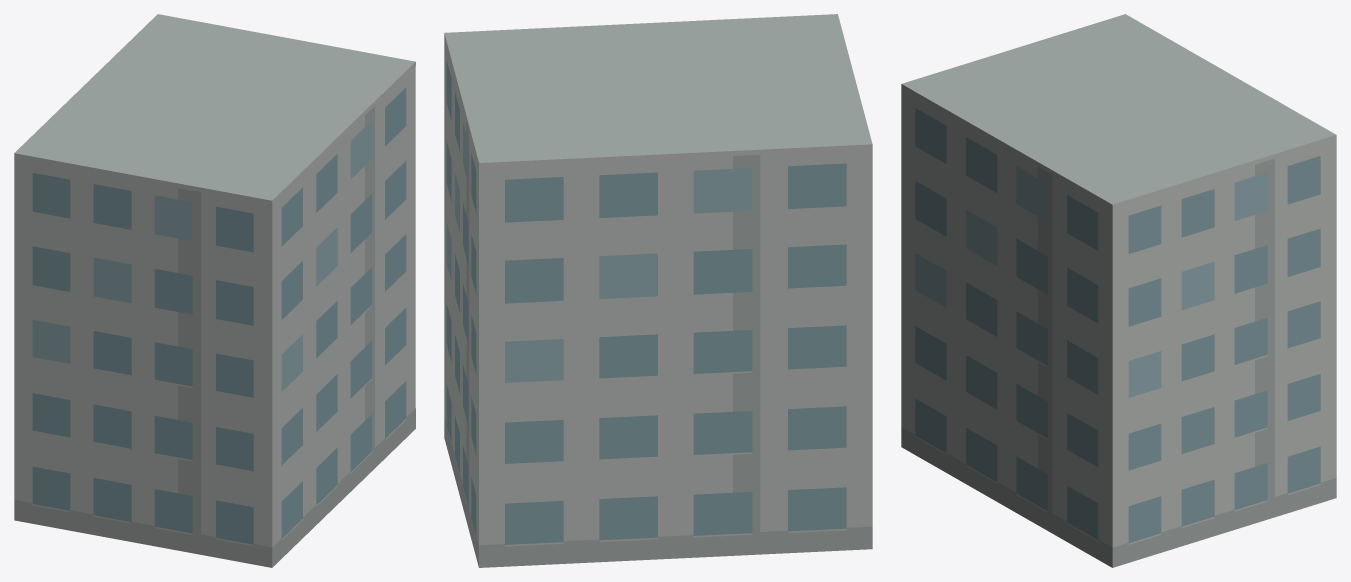
The model's file is residential-71966a1a-f8a7-49c3-b71c-f7d9e051dc4d.glb.
The picture shows the model from 3 angles, left to right: view 1: azimuth 30°, elevation 25°; view 2: azimuth 150°, elevation 25°; view 3: azimuth 270°, elevation 25°; orthographic projection. The views are drawn at different scales.
Parts seen in each view (by area): view 1: residential-71966a1a-f8a7-49c3-b71c-f7d9e051dc4d.tmp; view 2: residential-71966a1a-f8a7-49c3-b71c-f7d9e051dc4d.tmp; view 3: residential-71966a1a-f8a7-49c3-b71c-f7d9e051dc4d.tmp.
Boxes of the visible parts, x1,y1,x2,y2 form: residential-71966a1a-f8a7-49c3-b71c-f7d9e051dc4d.tmp: (14, 14, 415, 567); residential-71966a1a-f8a7-49c3-b71c-f7d9e051dc4d.tmp: (444, 14, 872, 567); residential-71966a1a-f8a7-49c3-b71c-f7d9e051dc4d.tmp: (901, 14, 1336, 567).
Size of the model in its own units: 21.73 by 19.3 by 20.96.
